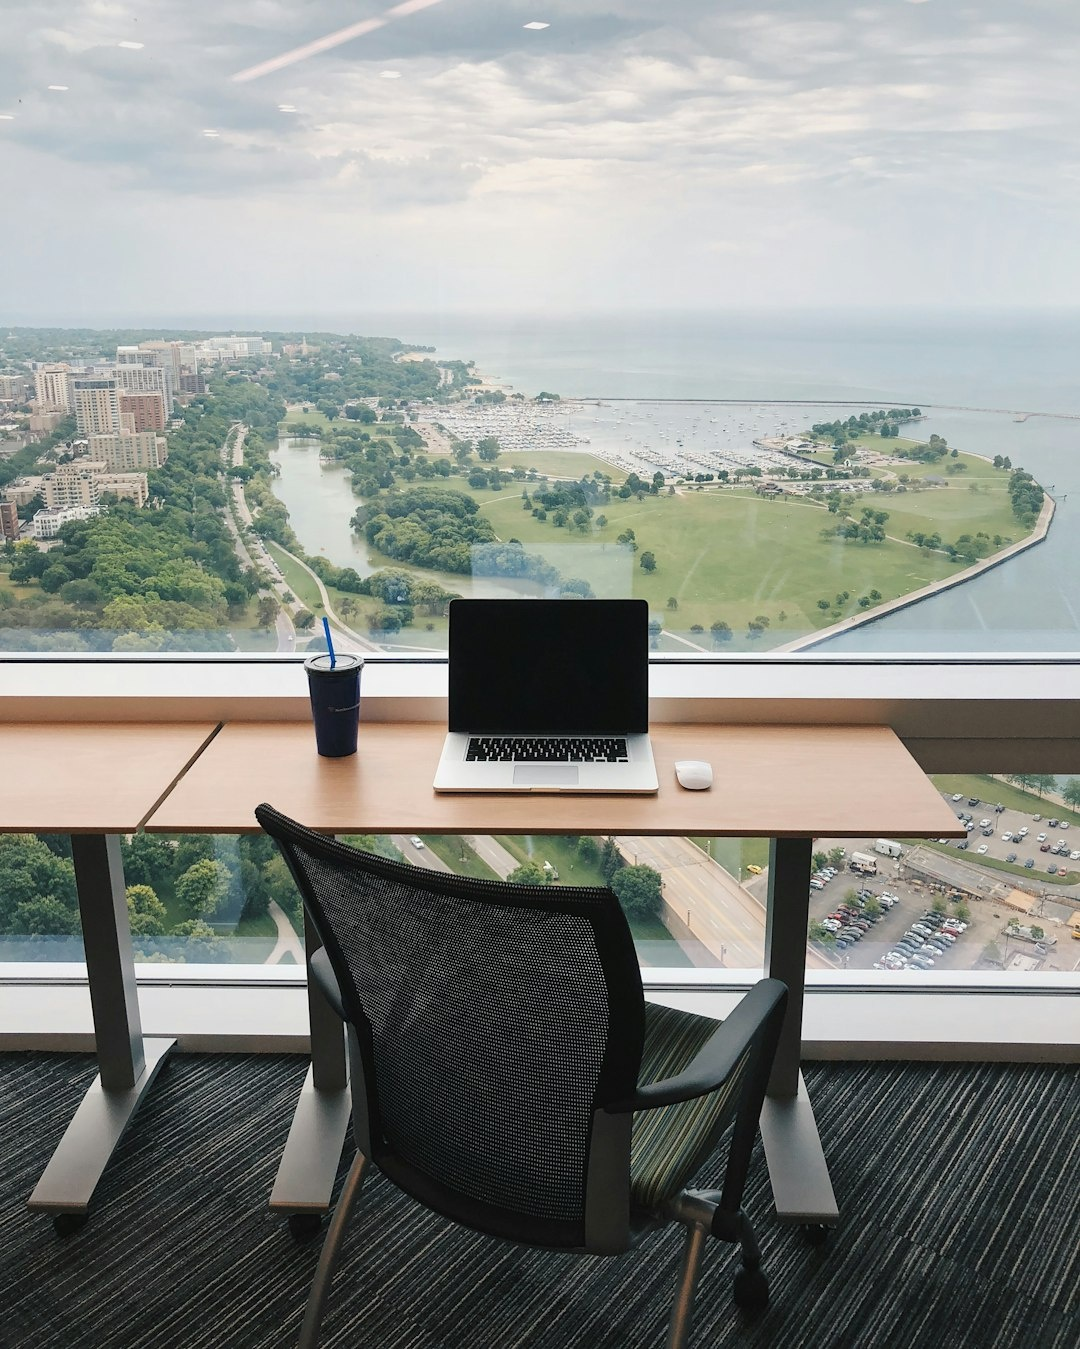laptop: (419, 578, 676, 812)
